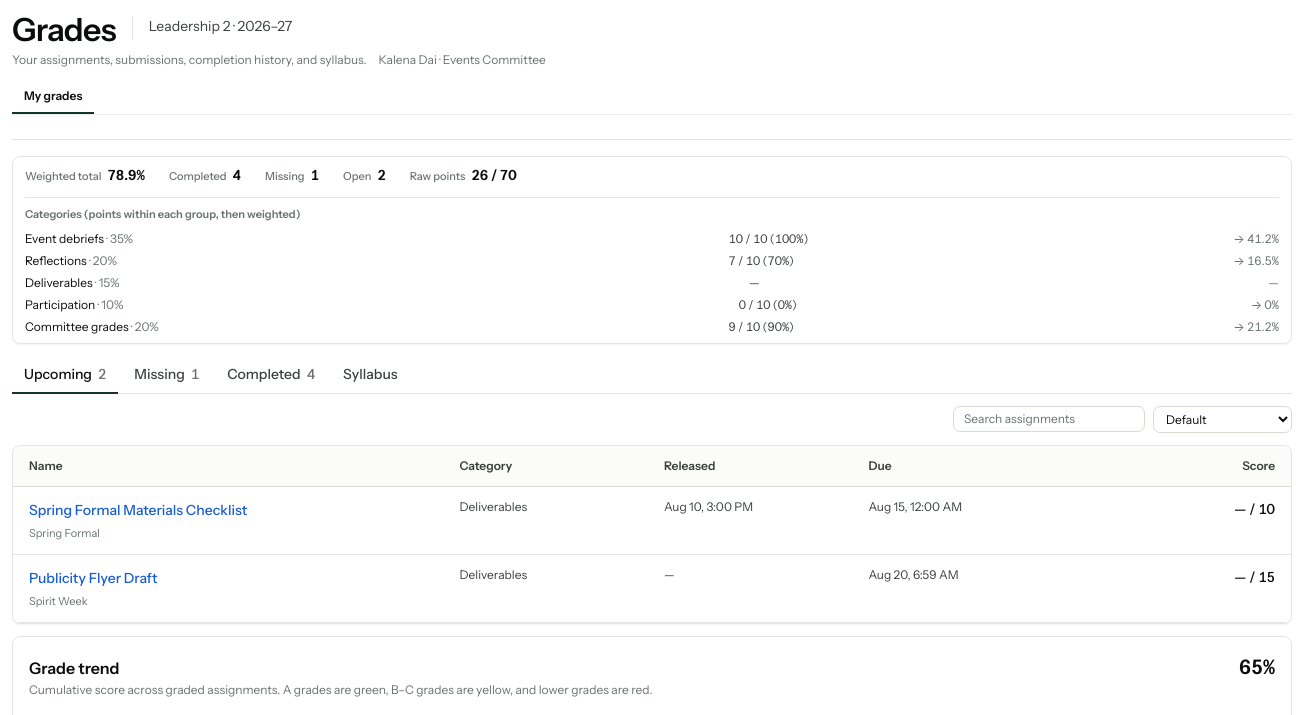
Test: GradesPage › shows completed assignments on the Completed tab
Click the tab "Completed4": point(271, 374) [215,356,327,394]
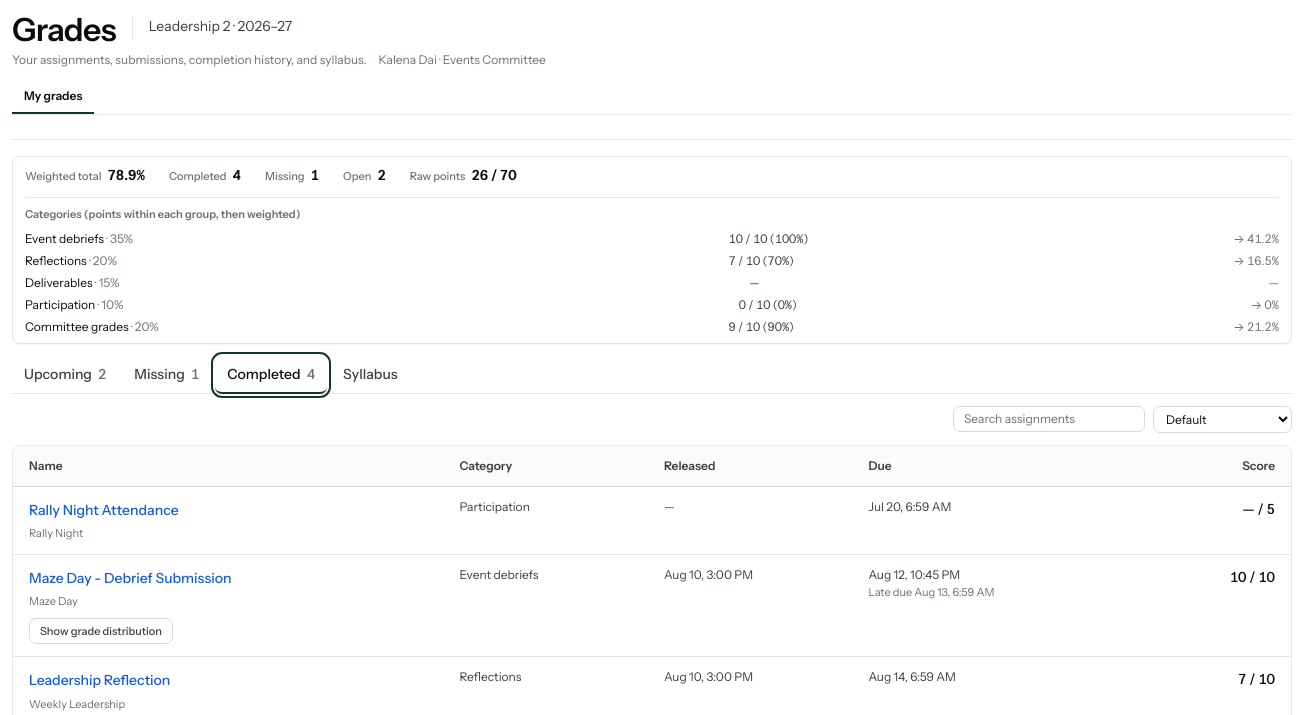
Check: the link "Maze Day - Debrief Submission" is shown, box [29,568,232,586]
Check: the link "Leadership Reflection" is shown, box [29,671,170,689]
Check: the link "Rally Night Attendance" is shown, box [29,500,179,518]
